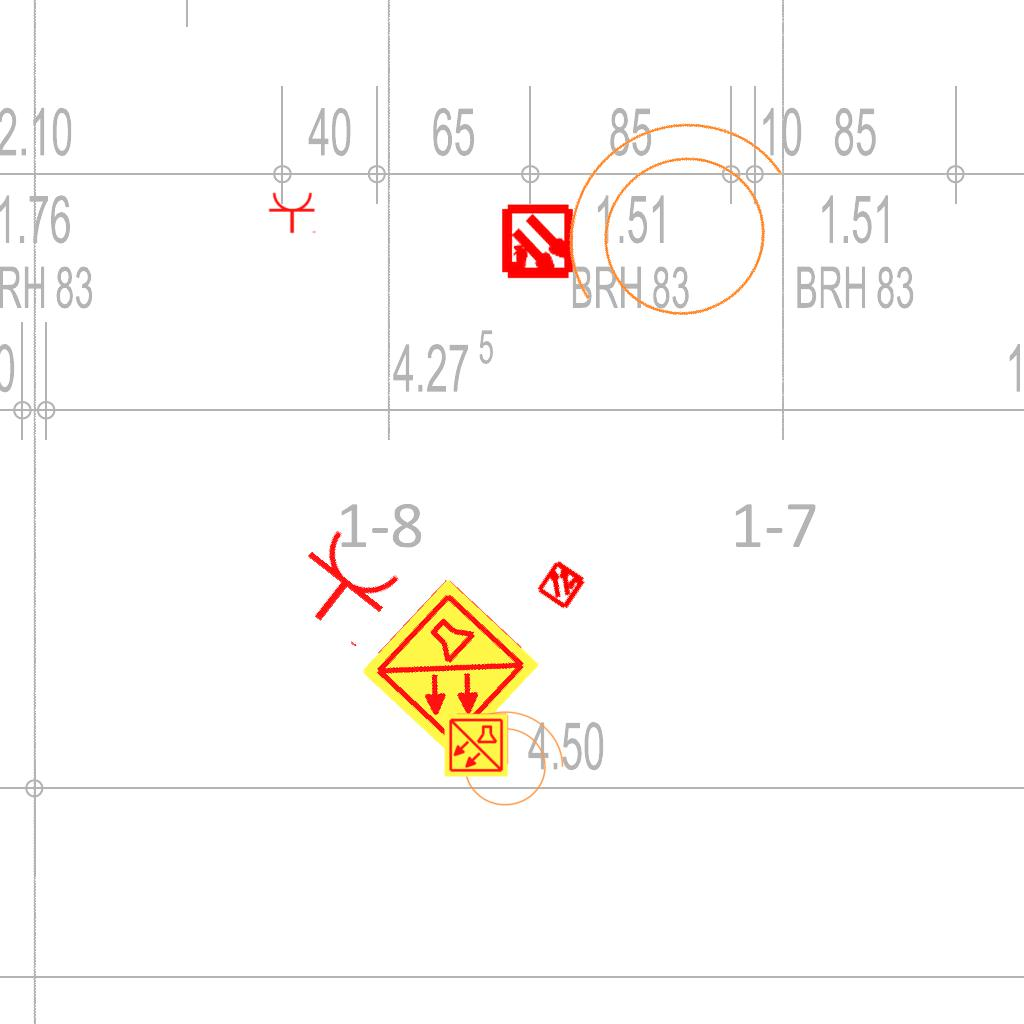OKW_Multisensormelder_(Kombination_optischer_Rauch-Kahlenmonoxid_Waerme-Melder): (356, 574, 544, 762), (443, 712, 509, 778)
OT_Multisensormelder_(Kombination_RMO_WMD): (481, 187, 594, 300), (523, 545, 601, 623)
Scheinwerfer_fuer_Alarmbeleuchtung: (502, 65, 846, 398), (436, 706, 568, 818)
Schukosteckdose_einfach: (278, 521, 411, 653), (268, 191, 318, 234)
